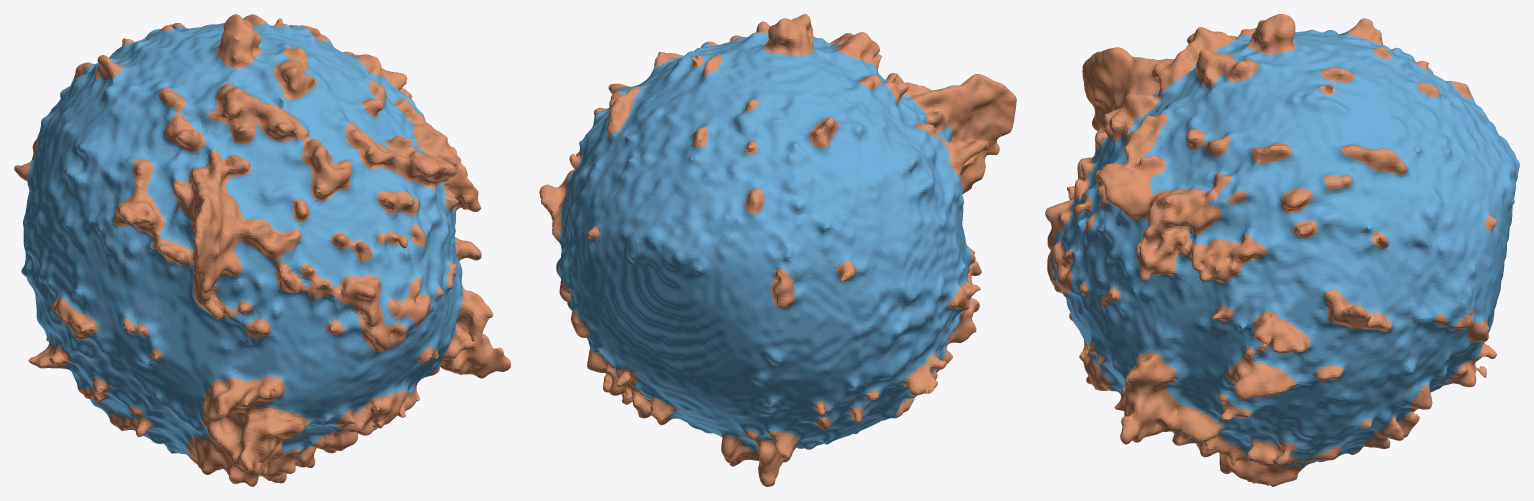
3 renders of one model, left to right at view 1: azimuth 30°, elevation 25°; view 2: azimuth 150°, elevation 25°; view 3: azimuth 270°, elevation 25°, orthographic. The views are drawn at different scales.
Bounding box in the file's own units: 141 × 146 × 144.
